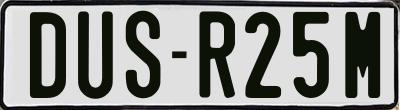2: (242, 11, 282, 101)
5: (290, 10, 326, 101)
D: (30, 11, 70, 102)
M: (344, 9, 381, 99)
R: (198, 8, 239, 101)
S: (125, 11, 163, 103)
U: (75, 10, 113, 101)
